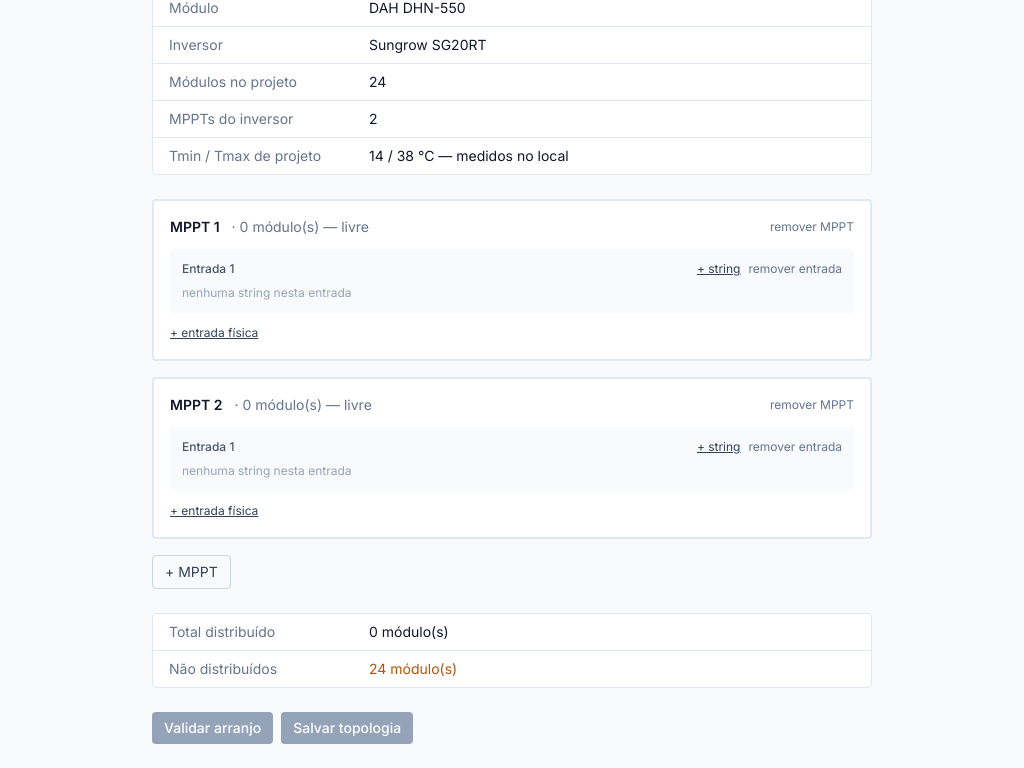
FV-UX-026 · topologia autoral › 6 · adicionar e remover MPPT
(page scrolled)
Expected: the heading "MPPT 1 · 0 módulo(s) — livre" is shown, [170, 217, 369, 237]
Click the button "+ MPPT": (191, 572) [152, 555, 231, 589]
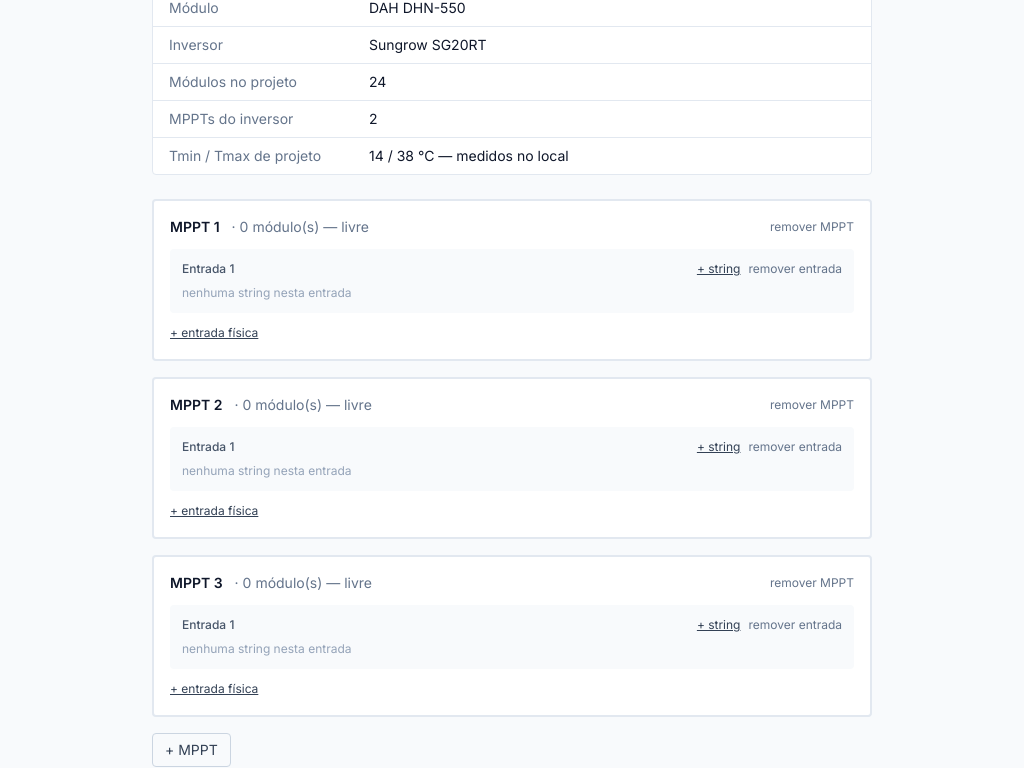
Now the heading "MPPT 3 · 0 módulo(s) — livre" is shown, box [170, 573, 372, 593]
Click the 3rd button "remover MPPT": (812, 583) [770, 575, 854, 591]
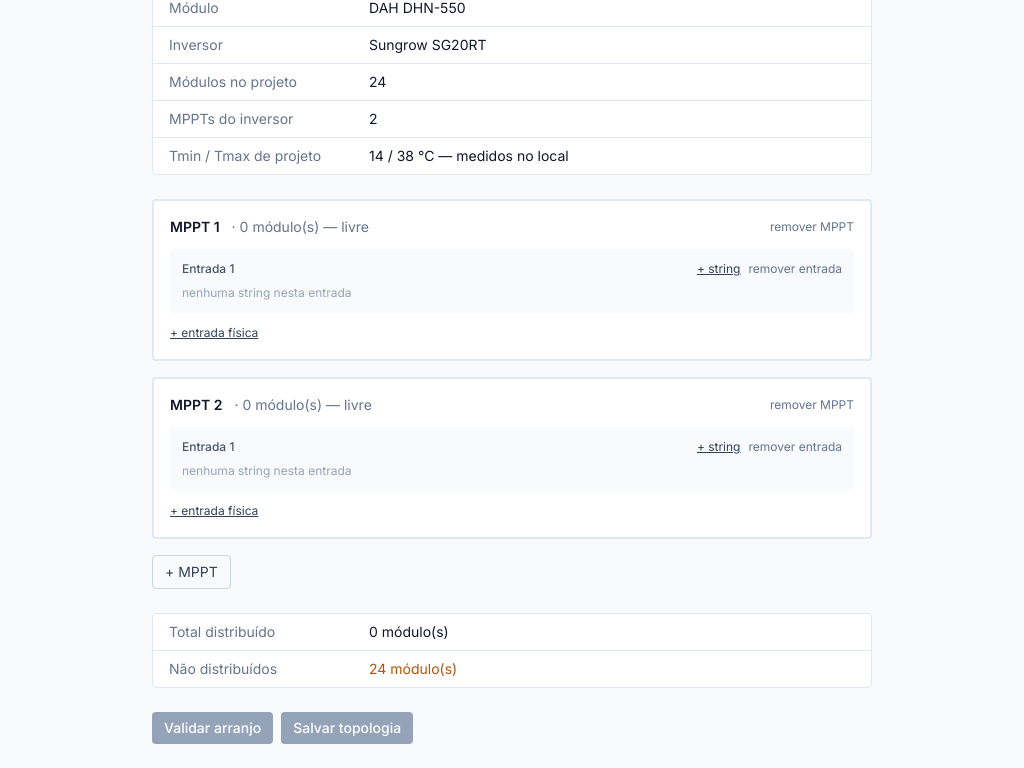
Now the heading "MPPT 3" is gone
